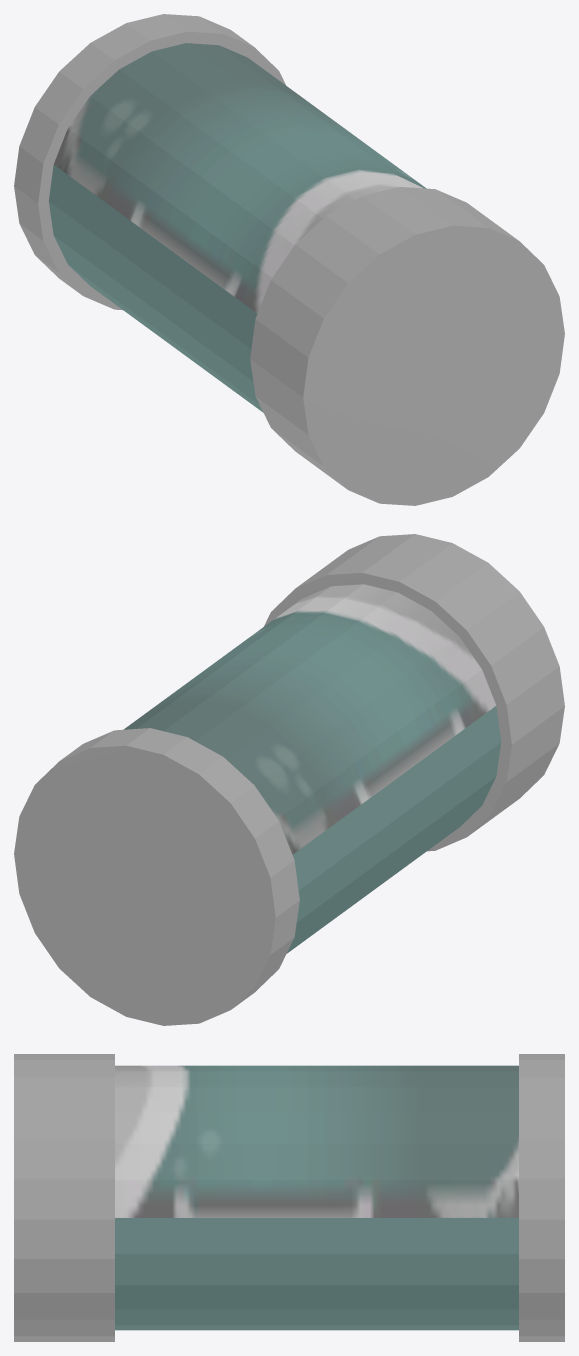
File: Building_GrowthVat.glb
3 views of the same model, one above another, from view 1: azimuth 30°, elevation 25°; view 2: azimuth 150°, elevation 25°; view 3: azimuth 270°, elevation 25° (orthographic). The views are drawn at different scales.
Visible parts, largest first — view 1: GrowthVat; view 2: GrowthVat; view 3: GrowthVat.
Part boxes in pixels (x1,y1,x2,y2): GrowthVat: (14, 14, 564, 505); GrowthVat: (14, 534, 564, 1025); GrowthVat: (14, 1054, 564, 1341).
Bounding box in the file's own units: 0.98 × 0.97 × 1.88.
1 material, 1 textured.
